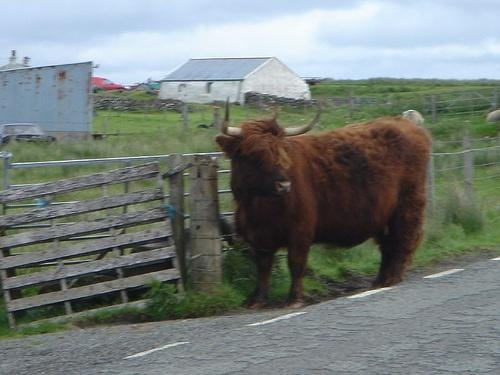cow: (216, 97, 432, 312)
